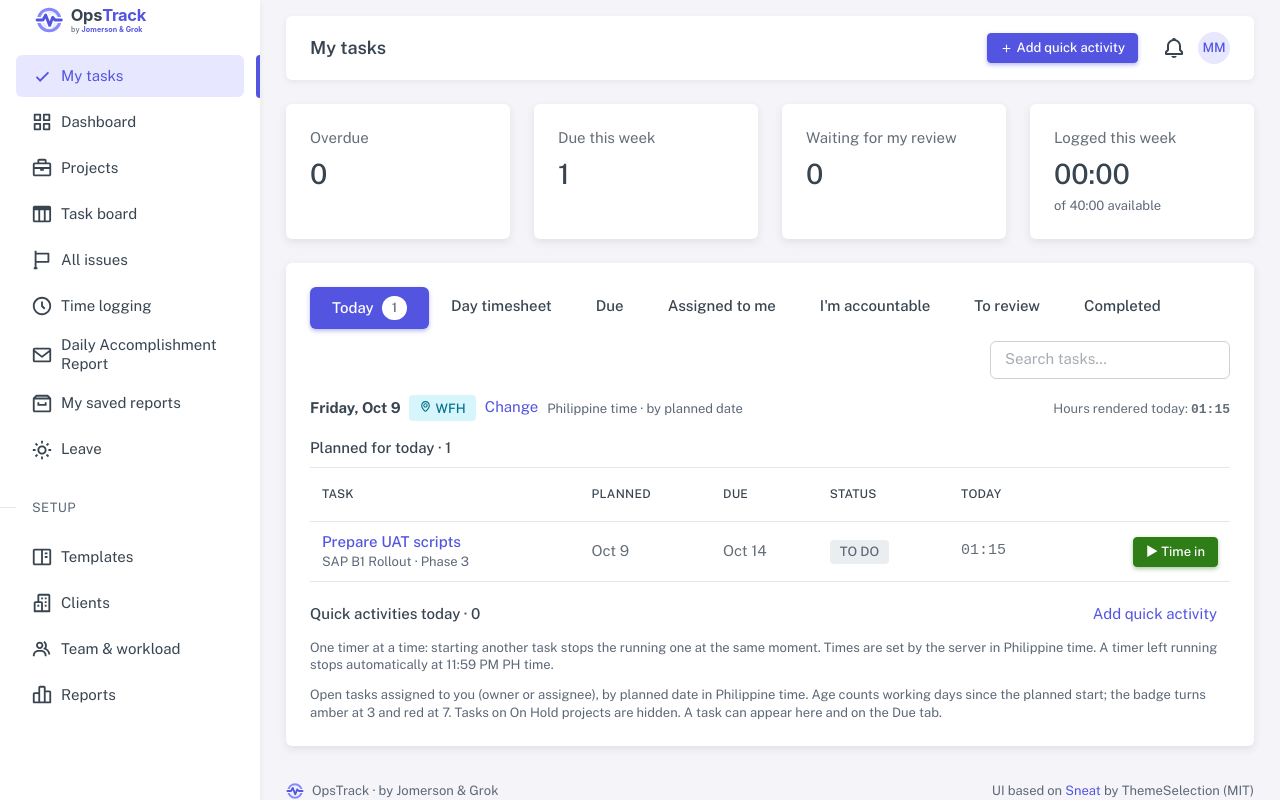
FR-ACT-28: errors under their fields › shows a field error under the field and keeps the banner for other problems
What coordinates should you click on to do the following:
click the button with aria-label "Time in on Prepare UAT scripts"
I would click on:
 (1176, 552)
Its box is [1133,536,1218,566].
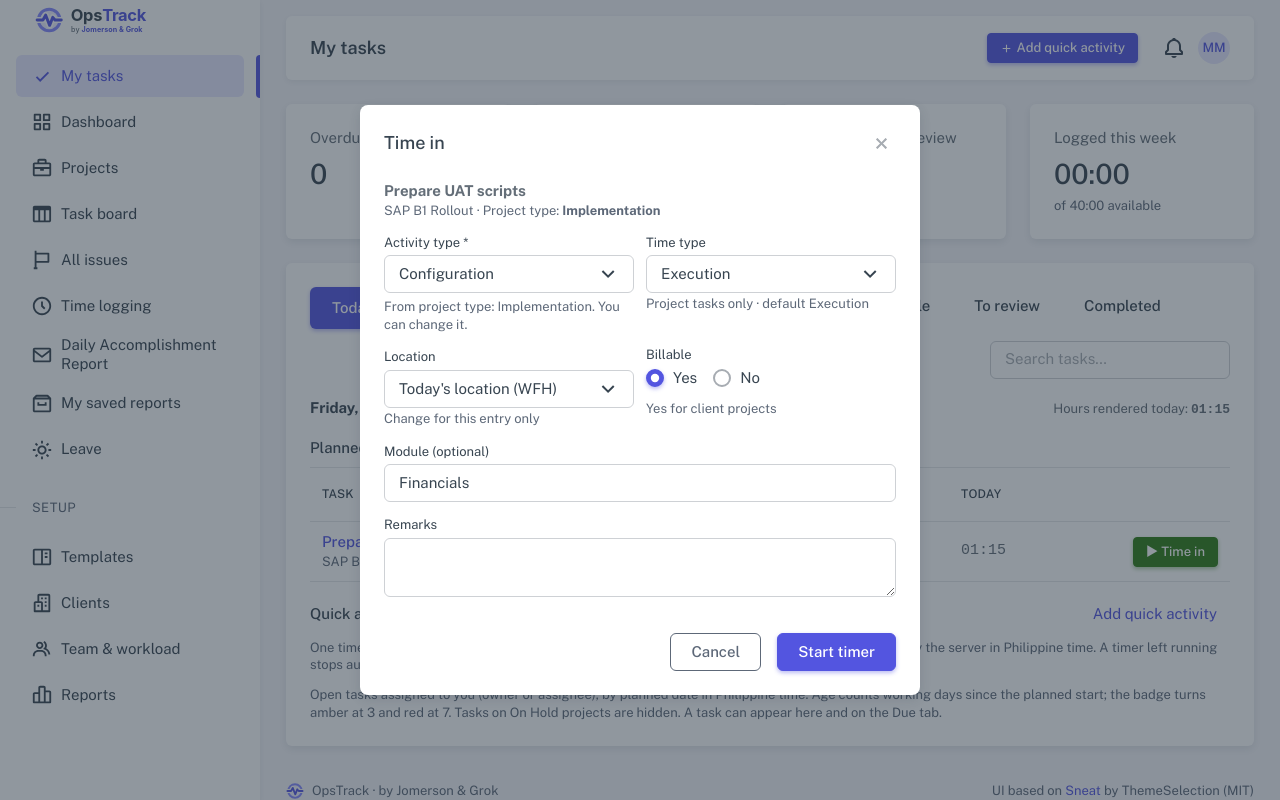
What coordinates should you click on to do the following:
click the button "Start timer"
I would click on:
 (837, 652)
Its box is [777,633,896,671].
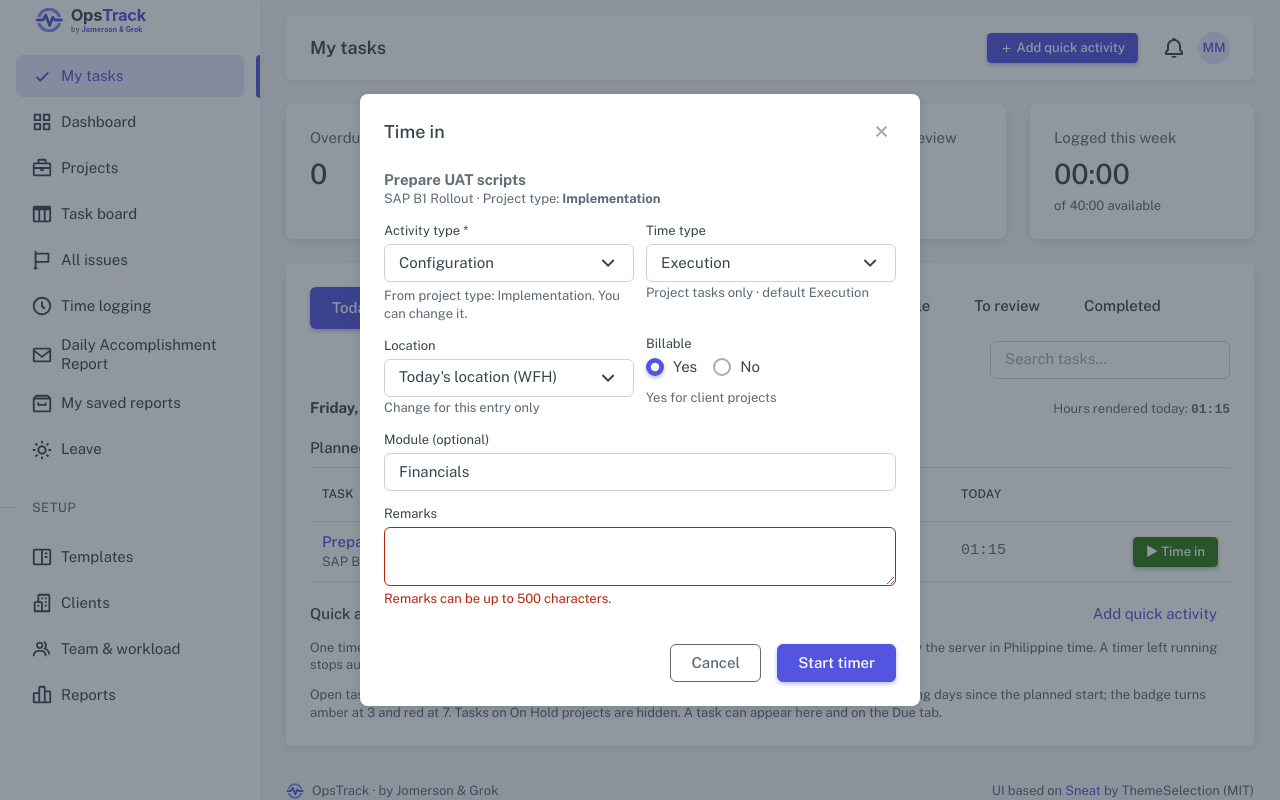
Now the text "Remarks can be up to 500 characters." is shown, box [384,591,611,606]
